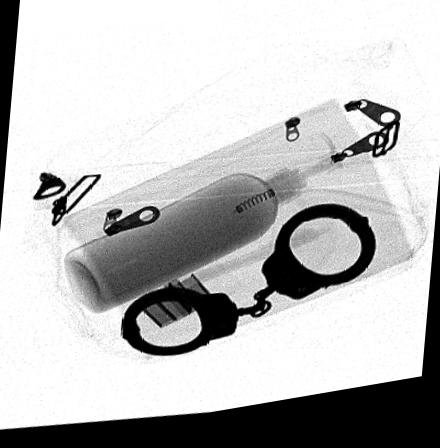HandCuffs: (119, 214, 375, 361)
